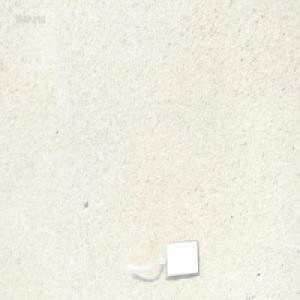LuggageTag: (122, 236, 199, 279)
